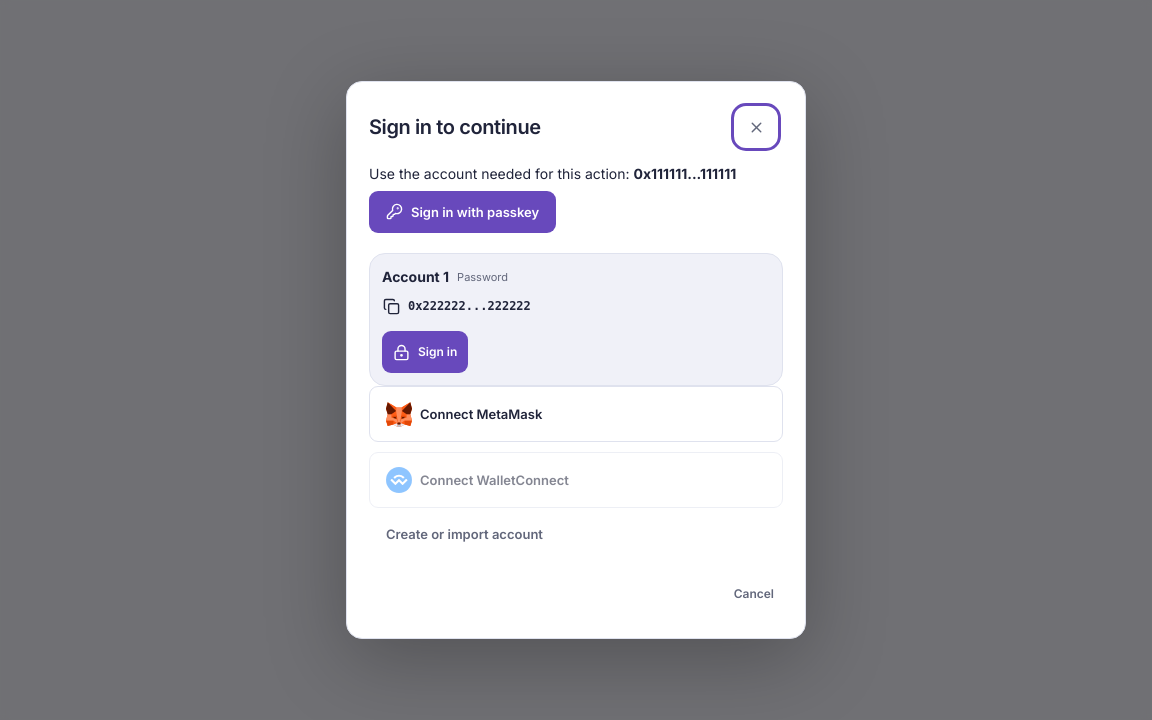
Test: keeps the chooser when the remembered wallet is unavailable and rejects the wrong account for an action
The image size is (1152, 720).
Click the button "Sign in" at (425, 352), box top-left (382, 331), bottom-right (468, 373)
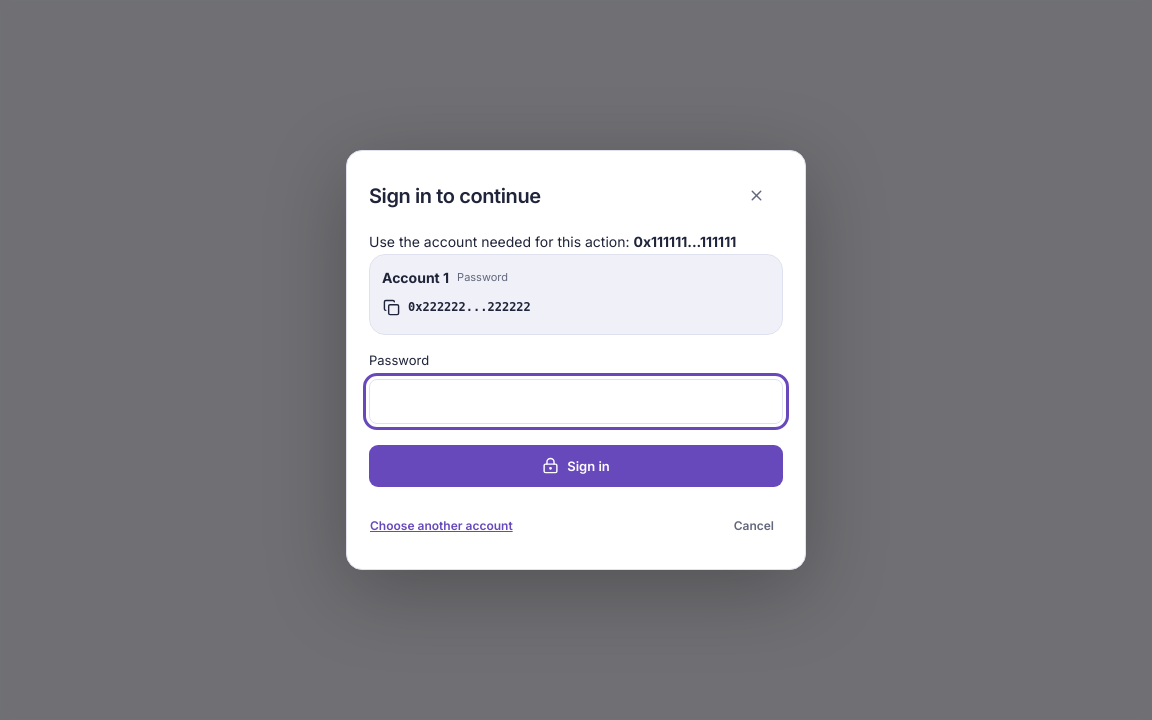
Type "long account password" into the password field labelled "Password" at (576, 401), box top-left (369, 379), bottom-right (783, 424)
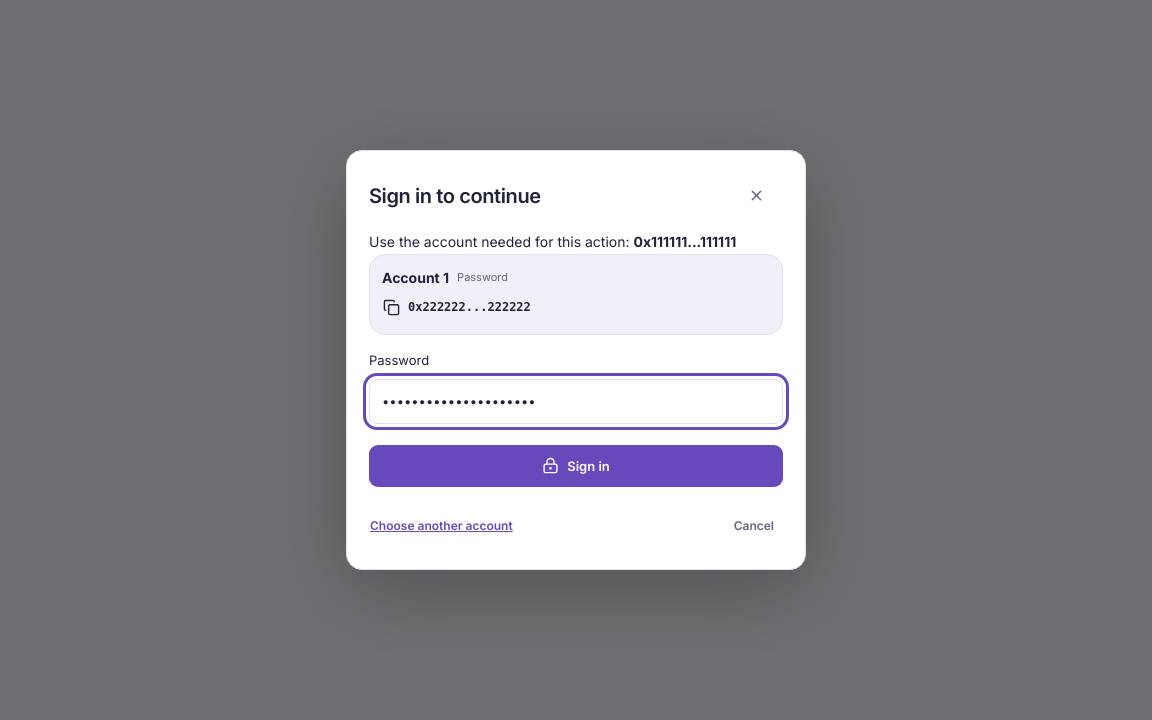
Click the button "Sign in" at (576, 466), box top-left (369, 445), bottom-right (783, 487)
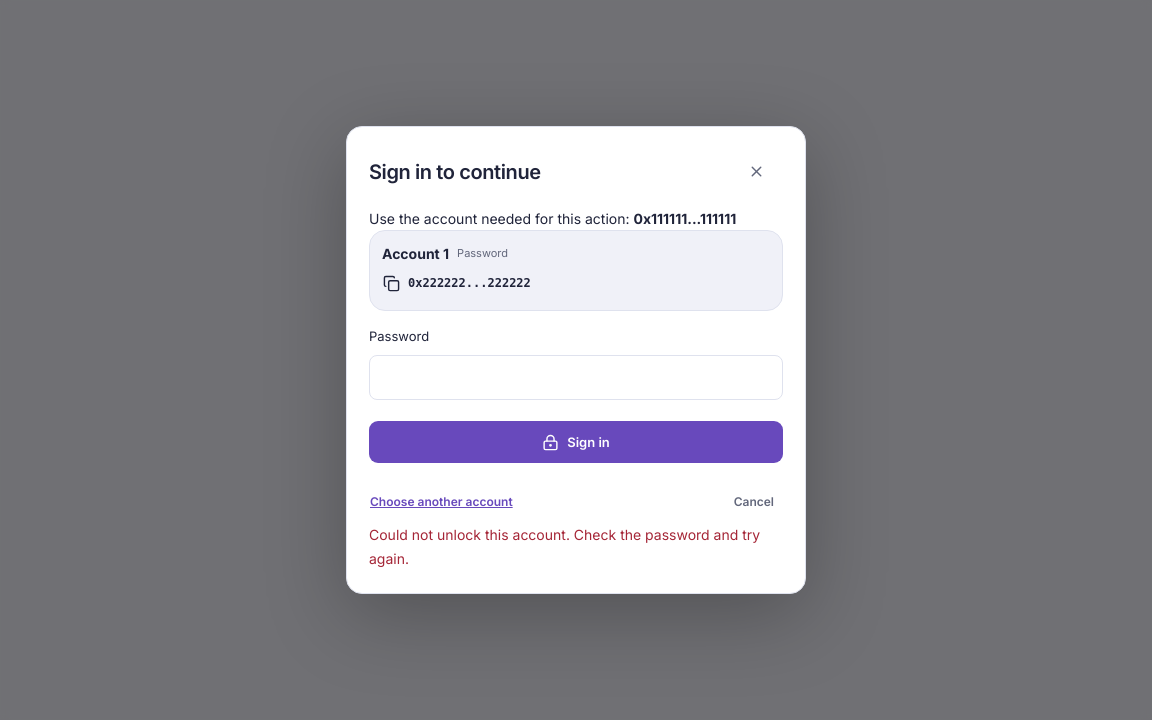
Expected: the message "Could not unlock this account. Check the password and try again." is shown, top-left (369, 524), bottom-right (783, 571)
